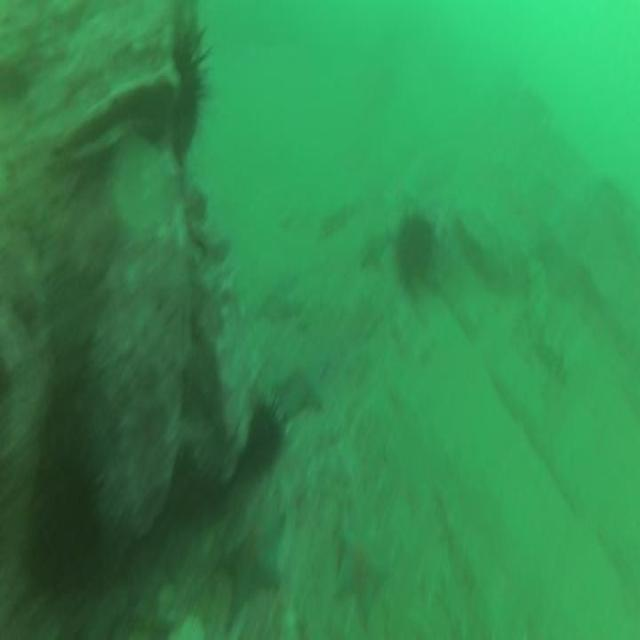echinus: (396, 215, 434, 283), (248, 404, 284, 470)
starfish: (220, 504, 284, 608), (338, 526, 388, 618), (275, 351, 325, 412), (262, 274, 298, 326)
